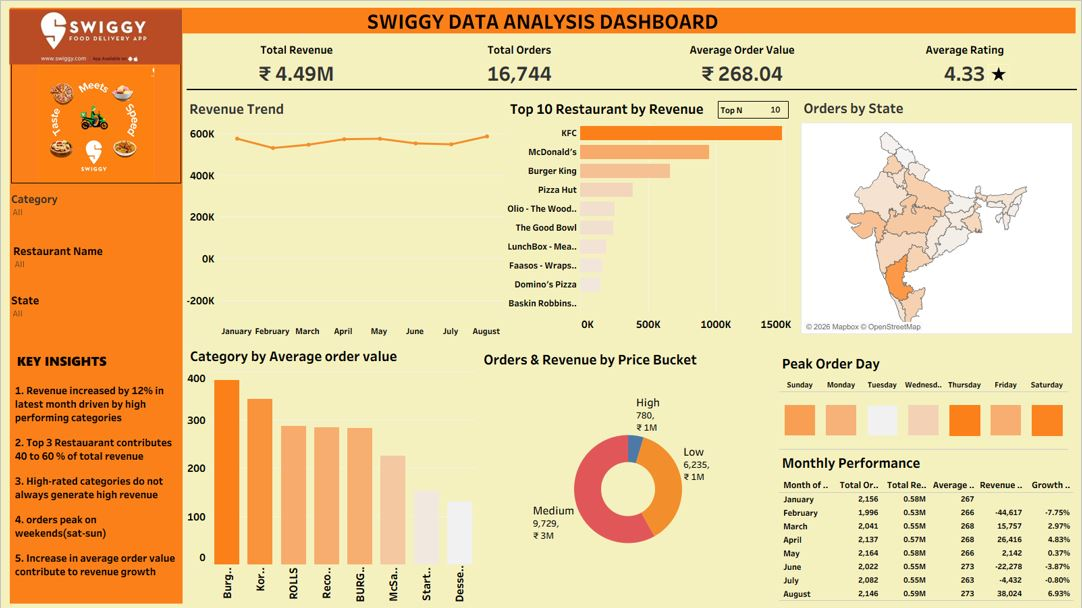

The page's visual inventory and layout, read from the dashboard file:
{"tool":"tableau","page":{"name":"Dashboard 1","canvas":[1600,900],"ordinal":0},"visuals":[{"type":"image","param":"C:/Users/vigne/Downloads/swiggy .jpeg","box":[12,7,256,92]},{"type":"title","box":[13,10,1579,38]},{"type":"worksheet","title":"KPIs","mark":"Automatic","box":[273,56,1320,69]},{"type":"image","param":"C:/Users/vigne/OneDrive/Pictures/Screenshots/swiggy project/Star.JPG","box":[1461,92,34,31]},{"type":"image","param":"C:/Users/vigne/Downloads/swiggy logo.jpeg","box":[15,93,252,177]},{"type":"worksheet","title":"Orders by State","mark":"Multipolygon","box":[1185,138,403,355]},{"type":"worksheet","title":"Revenue Trend","mark":"Automatic","rows":["Calculation_899594079792816128"],"cols":["Order Date"],"box":[275,139,471,359]},{"type":"worksheet","title":"Top 10 Restaurant by Revenue","mark":"Automatic","rows":["Restaurant Name"],"cols":["Calculation_899594079792816128"],"box":[750,139,422,359]},{"type":"parameter","param":"[Parameters].[Parameter 1]","box":[1062,148,105,26]},{"type":"filter","title":"Category by Average order value","param":"[federated.0gpe1p1073rz9e1e5h1yd0cf887q].[none:Category:nk]","box":[15,281,244,65]},{"type":"filter","title":"Top 10 Restaurant by Revenue","param":"[federated.0gpe1p1073rz9e1e5h1yd0cf887q].[none:Restaurant Name:nk]","box":[18,358,247,52]},{"type":"filter","title":"Orders by State","param":"[federated.0gpe1p1073rz9e1e5h1yd0cf887q].[none:State:nk]","box":[15,431,244,53]},{"type":"worksheet","title":"Category by Average order value","mark":"Automatic","rows":["Calculation_899594079793176579"],"cols":["Category"],"box":[276,505,428,386]},{"type":"worksheet","title":"Orders & Revenue by Price Bucket","mark":"Pie","rows":["Calculation_899594079822856200","Calculation_899594079822856200"],"box":[711,510,436,383]},{"type":"text","box":[21,516,241,33]},{"type":"worksheet","title":"Peak Order Day","mark":"Automatic","cols":["Order Date"],"box":[1153,516,438,149]},{"type":"text","box":[18,559,247,329]},{"type":"worksheet","title":"Monthly Performance","mark":"Automatic","rows":["Order Date"],"box":[1153,663,447,232]}]}

Visuals, with their boxes in screenshot pixels (x1, y1, x2, y2), scaled from the page's 1600x900 canvas onto the 1082x608 screenshot:
image: box=[8, 5, 181, 67]
title: box=[9, 7, 1077, 32]
"KPIs" worksheet: box=[185, 38, 1077, 84]
image: box=[988, 62, 1011, 83]
image: box=[10, 63, 181, 182]
"Orders by State" worksheet (Multipolygon marks): box=[801, 93, 1074, 333]
"Revenue Trend" worksheet: box=[186, 94, 504, 336]
"Top 10 Restaurant by Revenue" worksheet: box=[507, 94, 793, 336]
parameter: box=[718, 100, 789, 118]
"Category by Average order value" filter: box=[10, 190, 175, 234]
"Top 10 Restaurant by Revenue" filter: box=[12, 242, 179, 277]
"Orders by State" filter: box=[10, 291, 175, 327]
"Category by Average order value" worksheet: box=[187, 341, 476, 602]
"Orders & Revenue by Price Bucket" worksheet (Pie marks): box=[481, 345, 776, 603]
text: box=[14, 349, 177, 371]
"Peak Order Day" worksheet: box=[780, 349, 1076, 449]
text: box=[12, 378, 179, 600]
"Monthly Performance" worksheet: box=[780, 448, 1081, 605]
